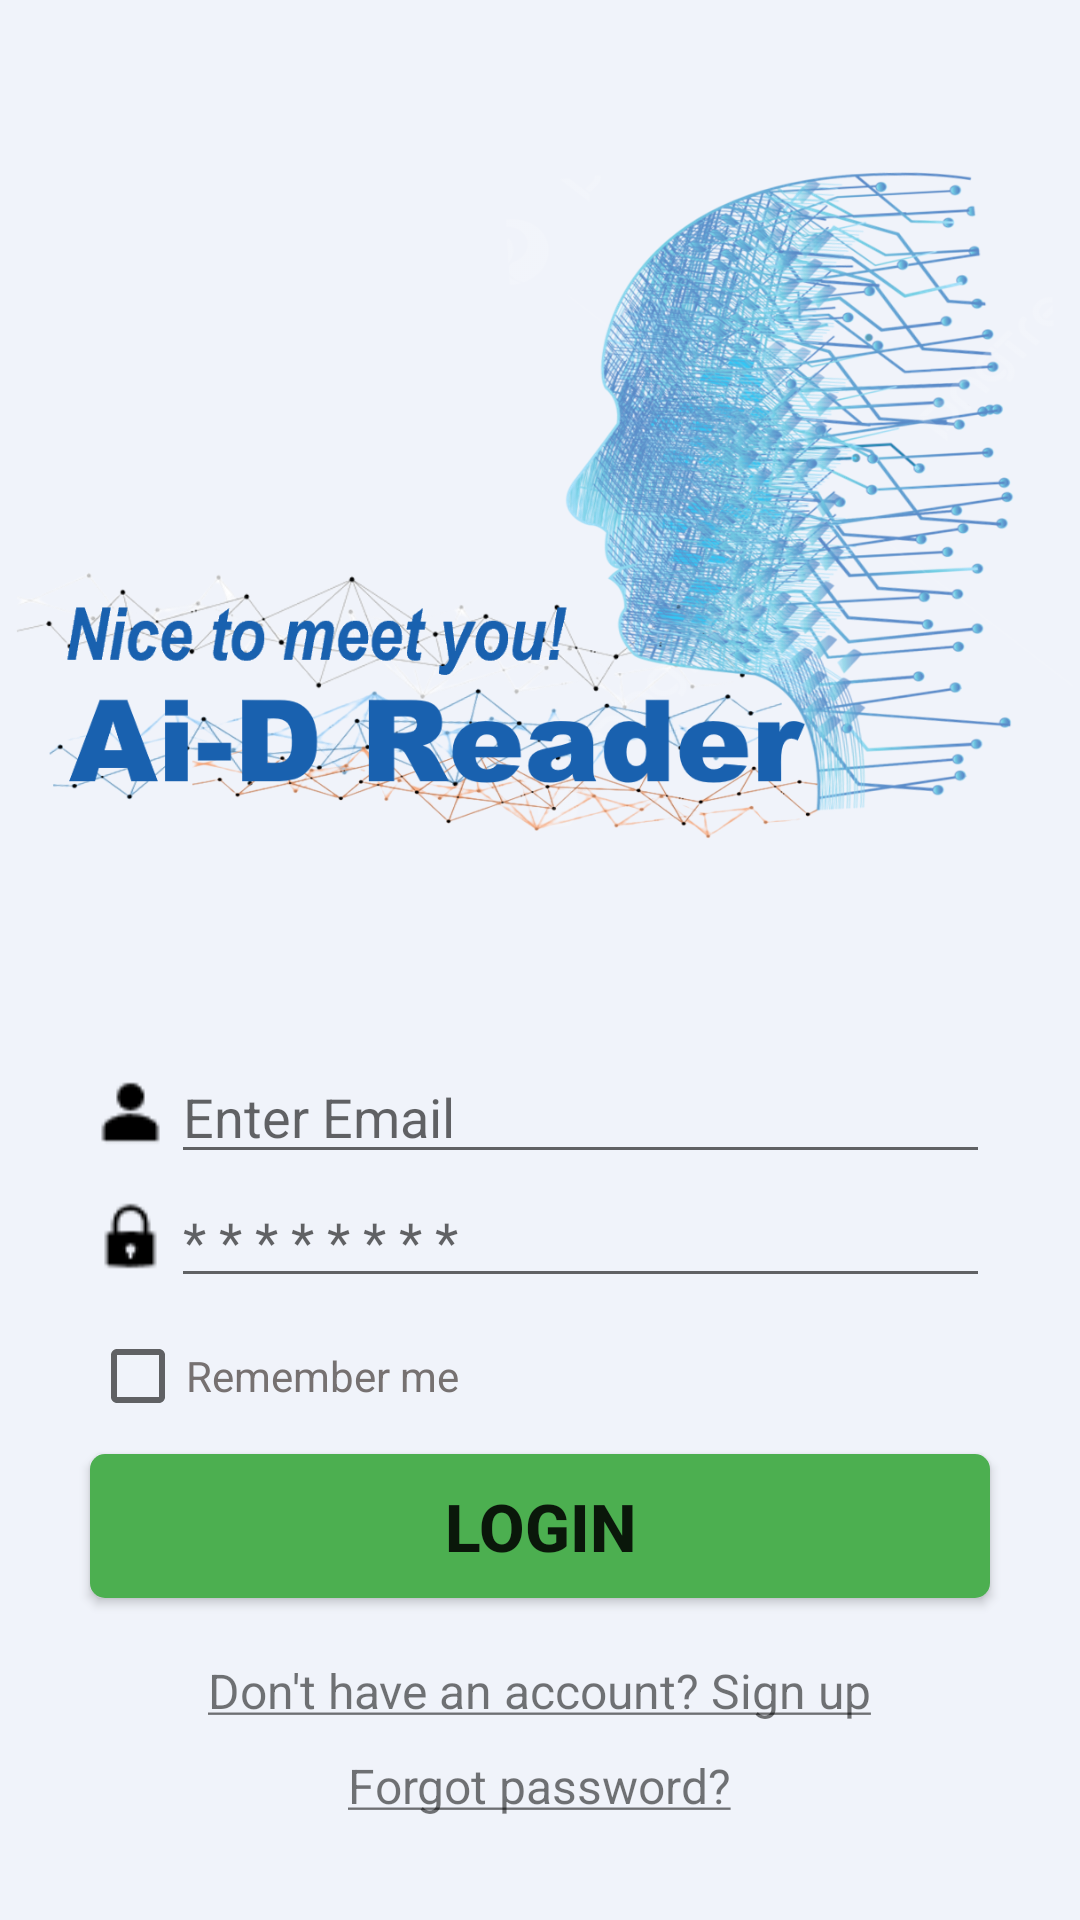

Where icons sit on this 1080x1920 app screen, as (left=x1, top=y1, right=x2, bottom=y2):
password: (left=104, top=1203, right=157, bottom=1269)
